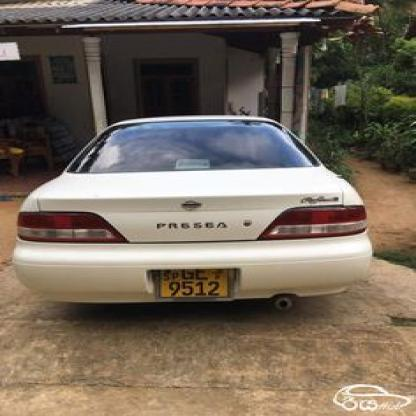car back: (15, 114, 375, 316)
number plate: (150, 266, 228, 302)
